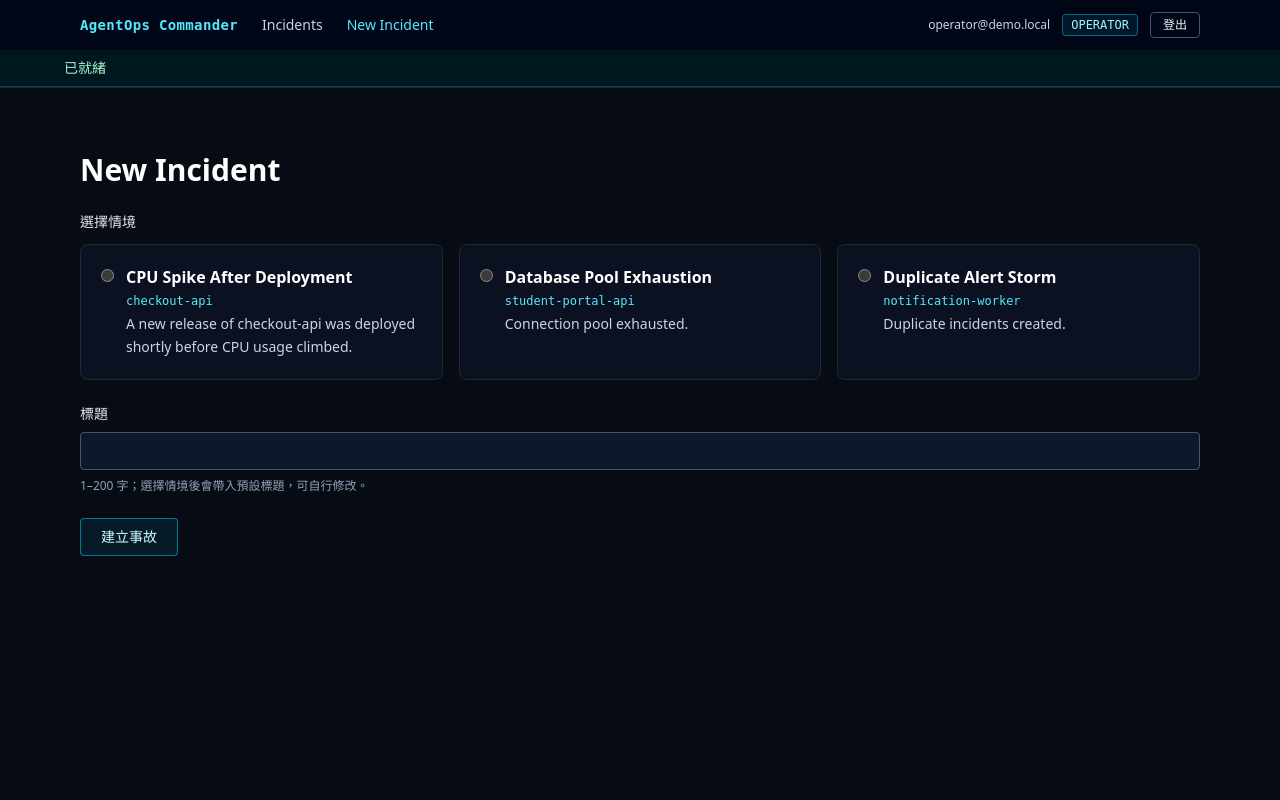
Test case: /incidents/new › 送出成功：以 scenario_key 與 title 呼叫 API，導向 /incidents/{id} 並顯示詳情
Click the radio button labelled "Database Pool Exhaustion": coordinates (486, 276) [480,269,493,282]
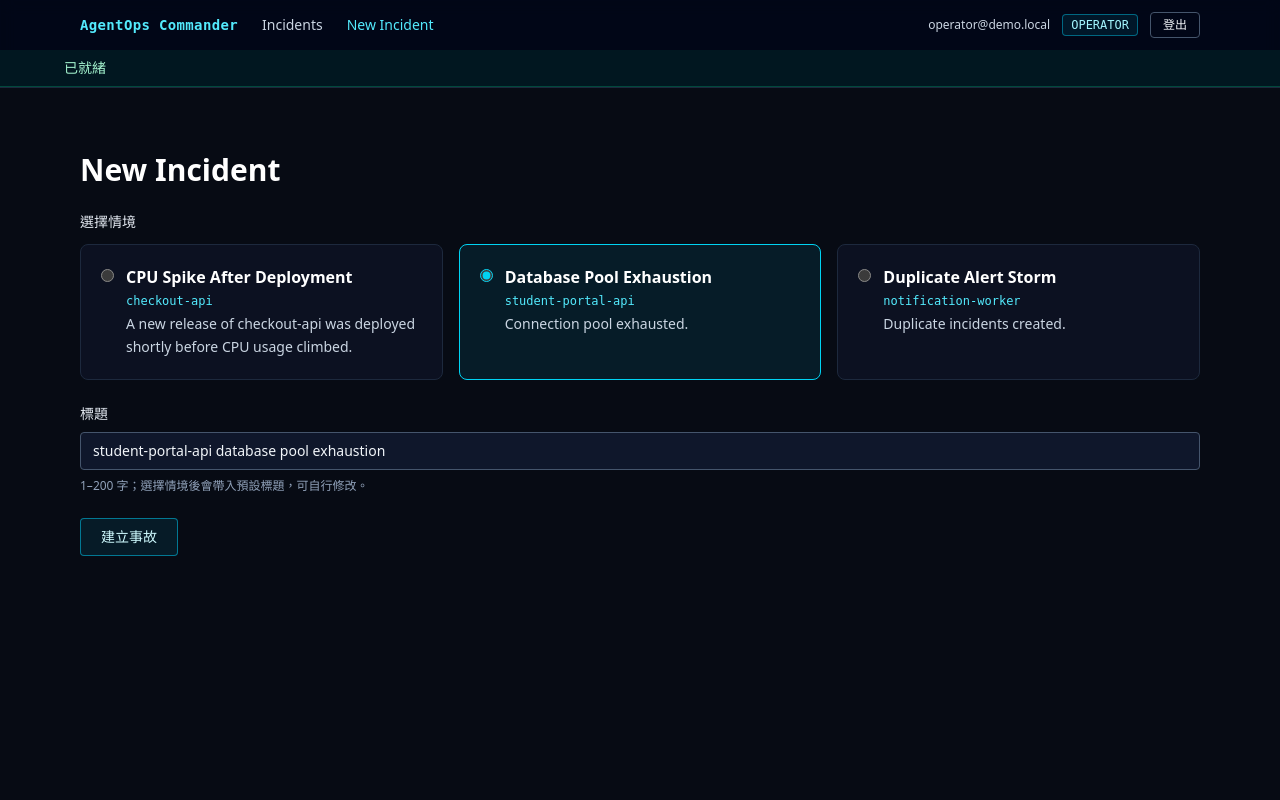
In the field labelled "標題": coordinates (640, 450) [80,432,1200,470], type "  連線池耗盡  "
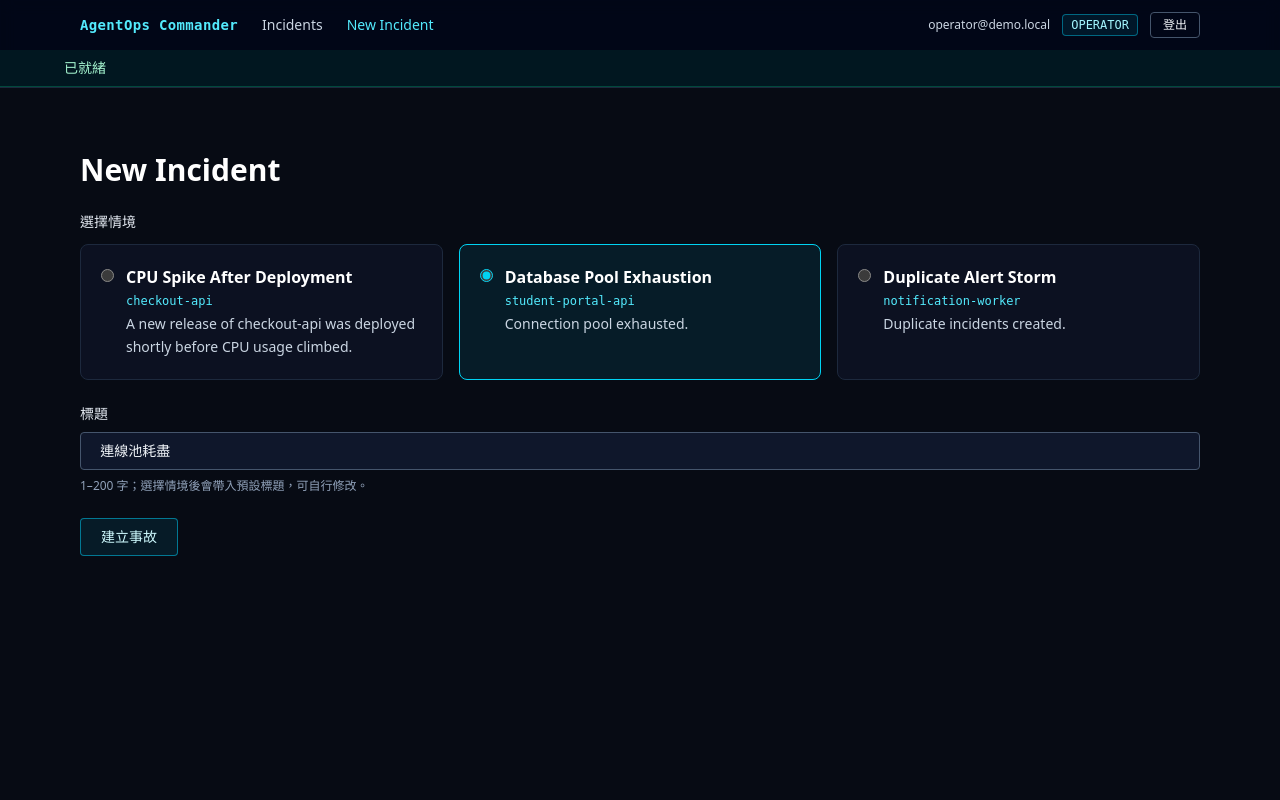
Click the button "建立事故": coordinates (129, 536) [80,518,178,556]
Wait 60 ms
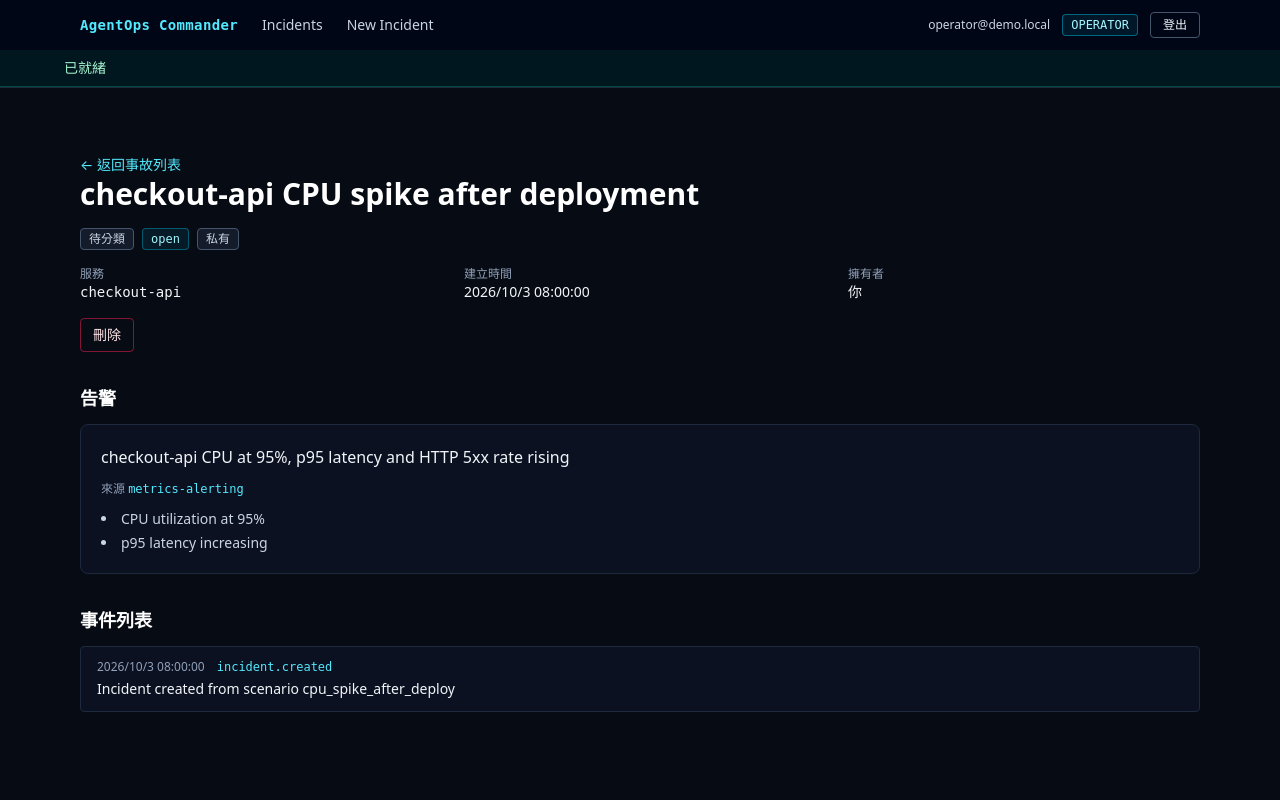
Now the heading "checkout-api CPU spike after deployment" is shown, box [80,173,699,214]
